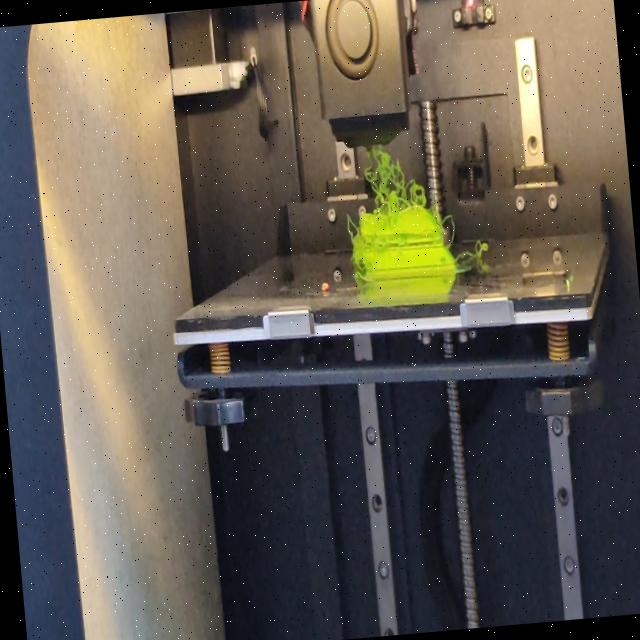spaghetti: (362, 139, 429, 220), (451, 238, 491, 266), (442, 210, 458, 242), (352, 268, 372, 288)
